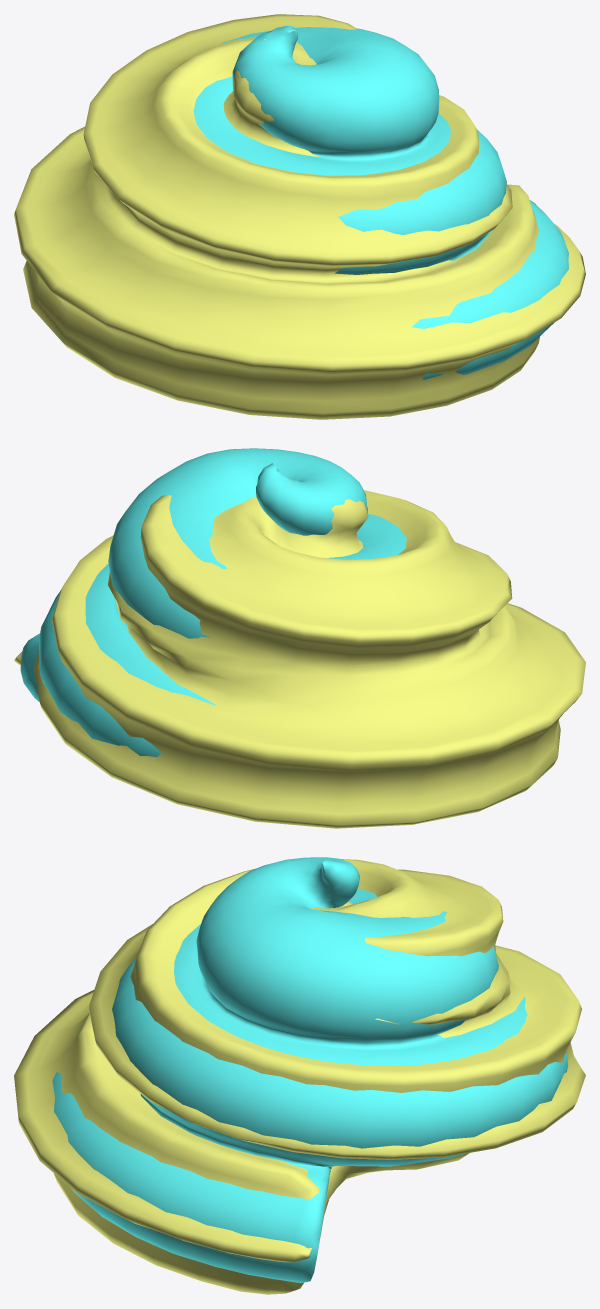
Rendered from Creams.fbx.
The picture shows the model from 3 angles, top to bottom: view 1: azimuth 30°, elevation 25°; view 2: azimuth 150°, elevation 25°; view 3: azimuth 270°, elevation 25°; orthographic projection. The views are drawn at different scales.
Visible parts, largest first — view 1: Cream, SoftCream; view 2: Cream, SoftCream; view 3: SoftCream, Cream.
Part boxes in pixels (x1,y1,x2,y2): Cream: (14,14,585,419); SoftCream: (193,25,568,379); Cream: (14,484,585,828); SoftCream: (20,448,406,756); SoftCream: (52,857,567,1283); Cream: (14,859,585,1294).
Bounding box in the file's own units: 26.16 × 15.39 × 24.25.
